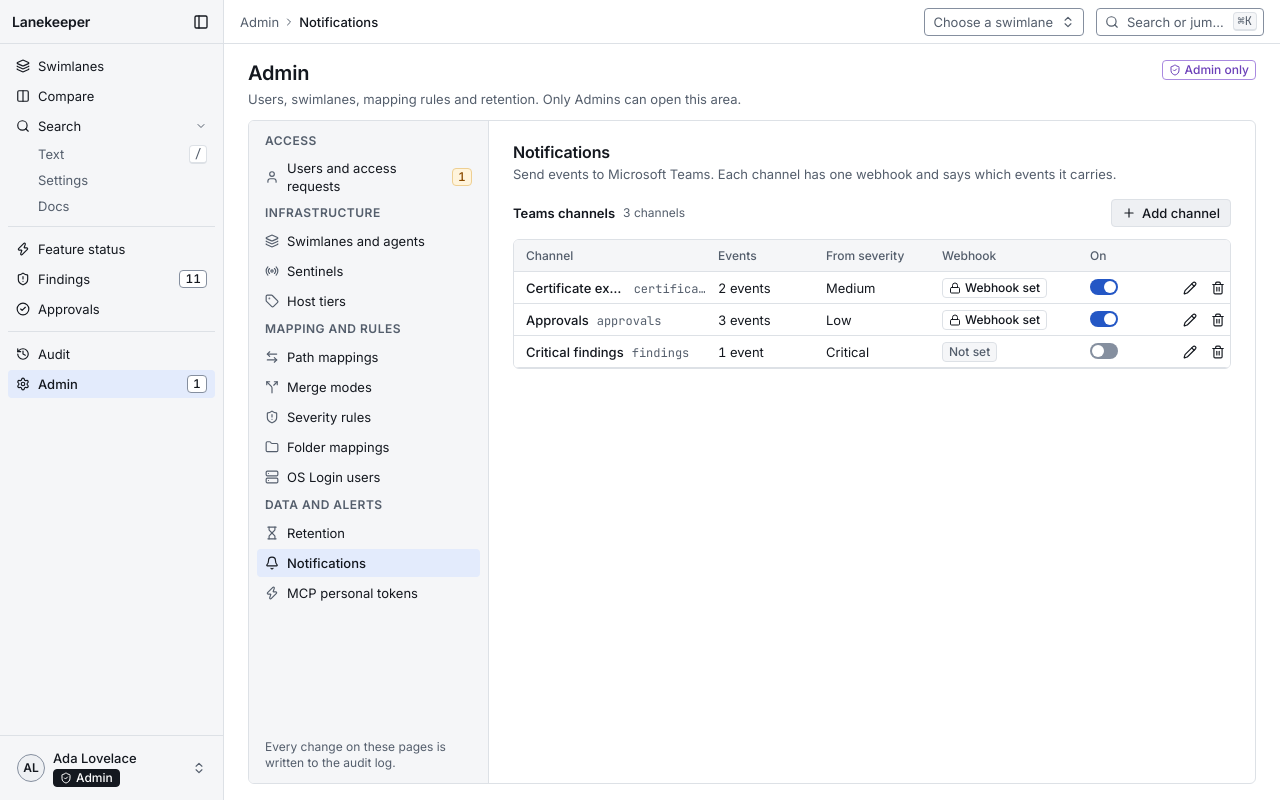
Test: saving a webhook › sends it once, shows it nowhere afterwards, and keeps it out of every cache and log
Check: the heading "Admin" is shown, box [248,61,309,85]
Click the button "Add channel": [1171, 213] box [1111,199,1231,227]
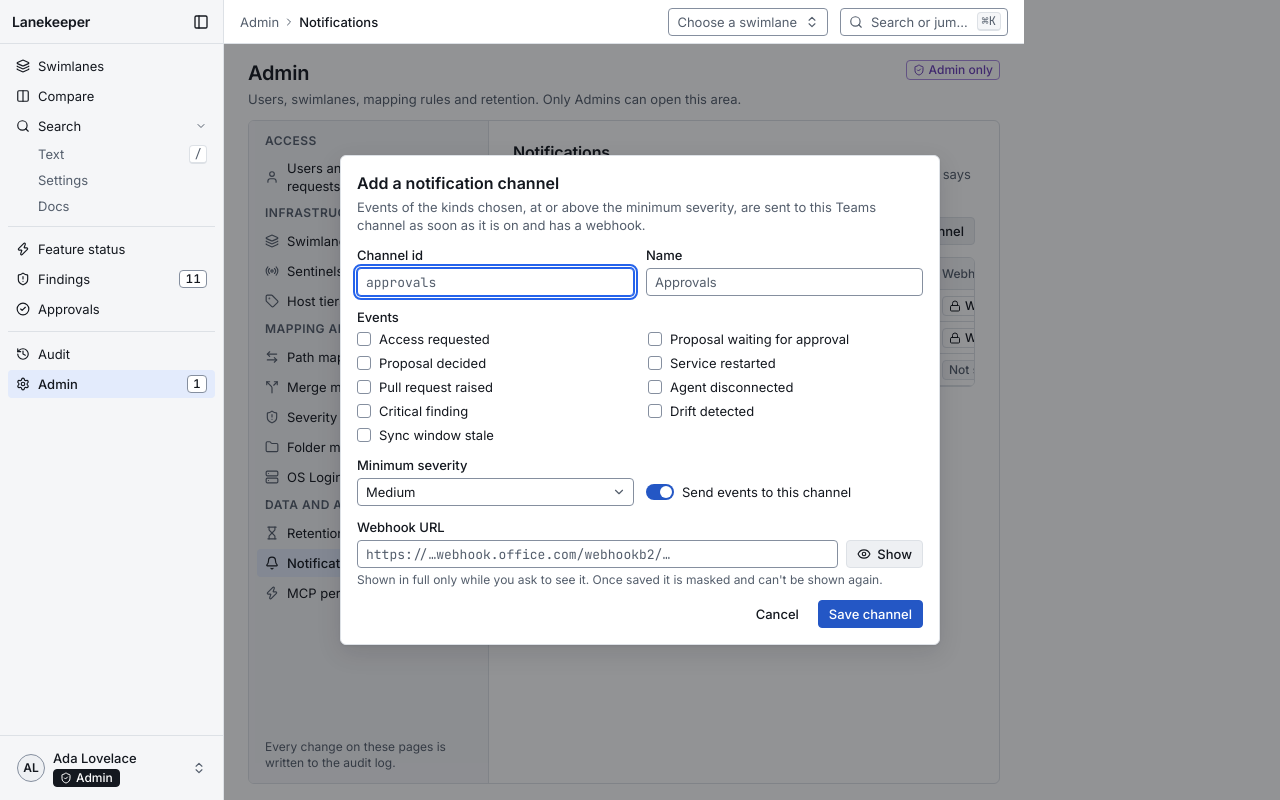
In the field labelled "Channel id": [496, 282] box [357,268,634,296], type "ops"
In the field labelled "Name": [784, 282] box [646,268,923,296], type "Operations"
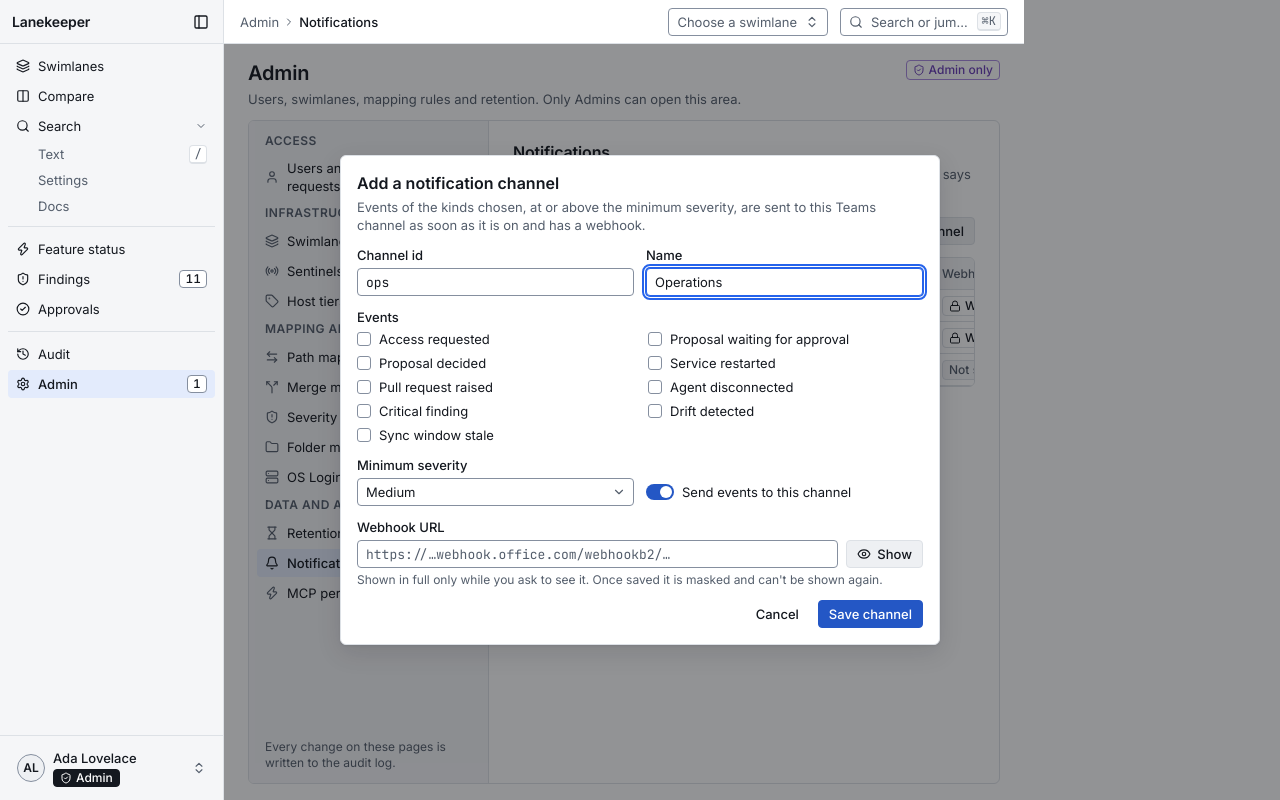
Click the 7th checkbox named "Critical finding": [364, 411] box [357,404,371,418]
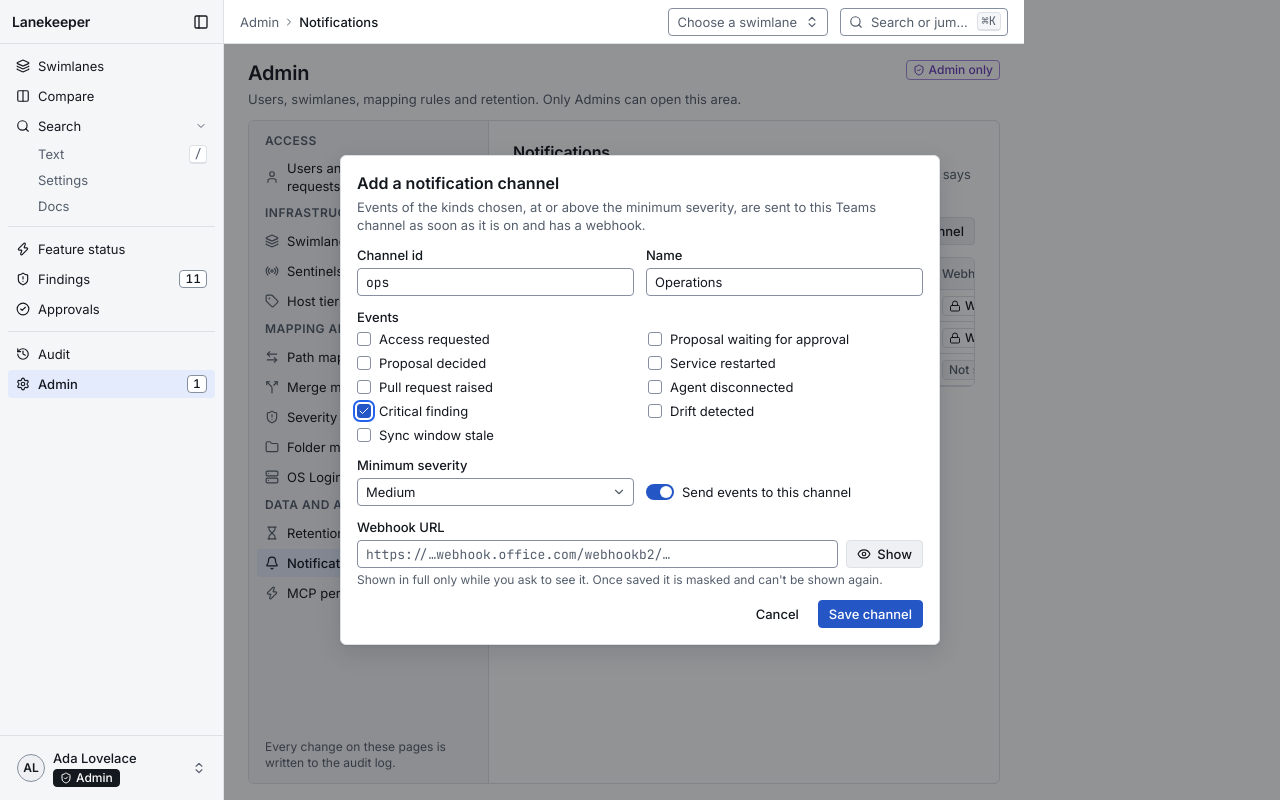
Select "High" in the dropdown labelled "Minimum severity": [496, 492] box [357,478,634,506]
Click the password field labelled "Webhook URL": [598, 554] box [357,540,838,568]
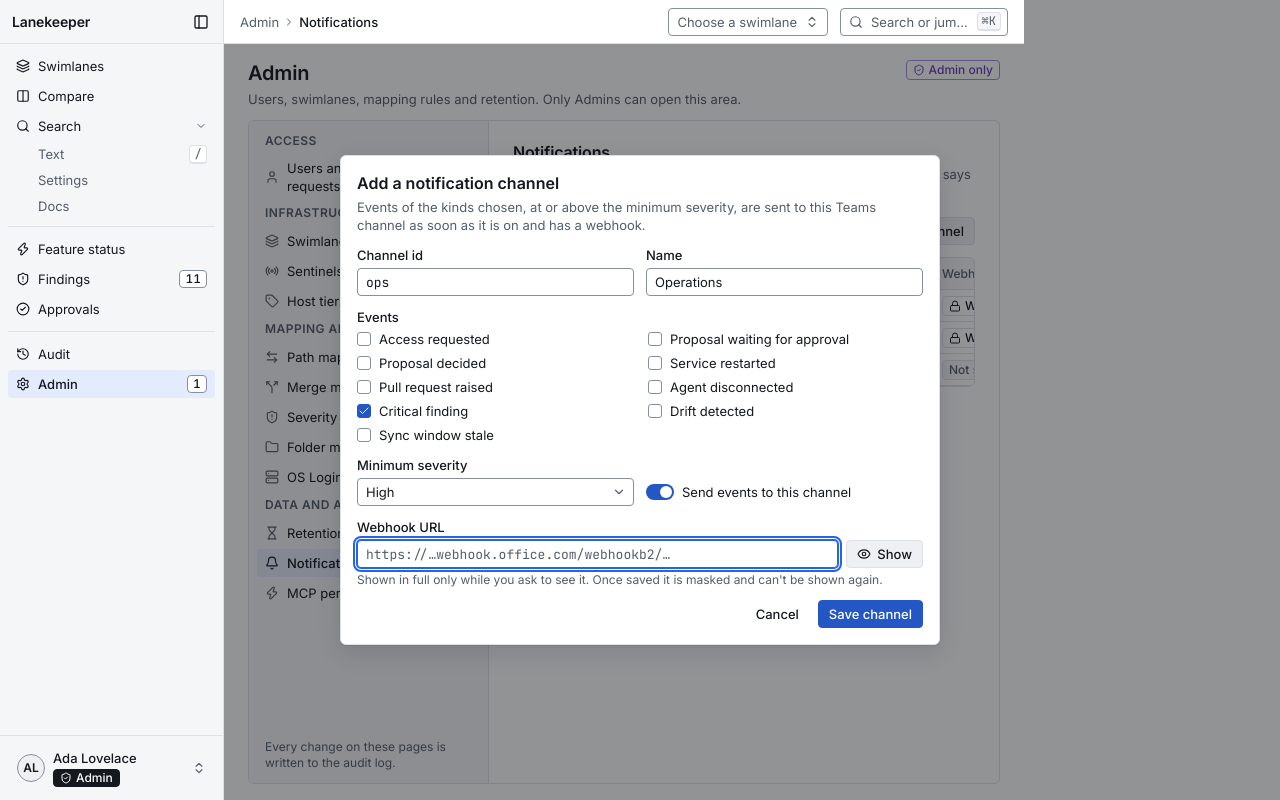
Type keys "https://corp.webhook.office.com/webhookb2/TOPSECRETPATH@tenant/IncomingWebhook/aaaa/bbbb"
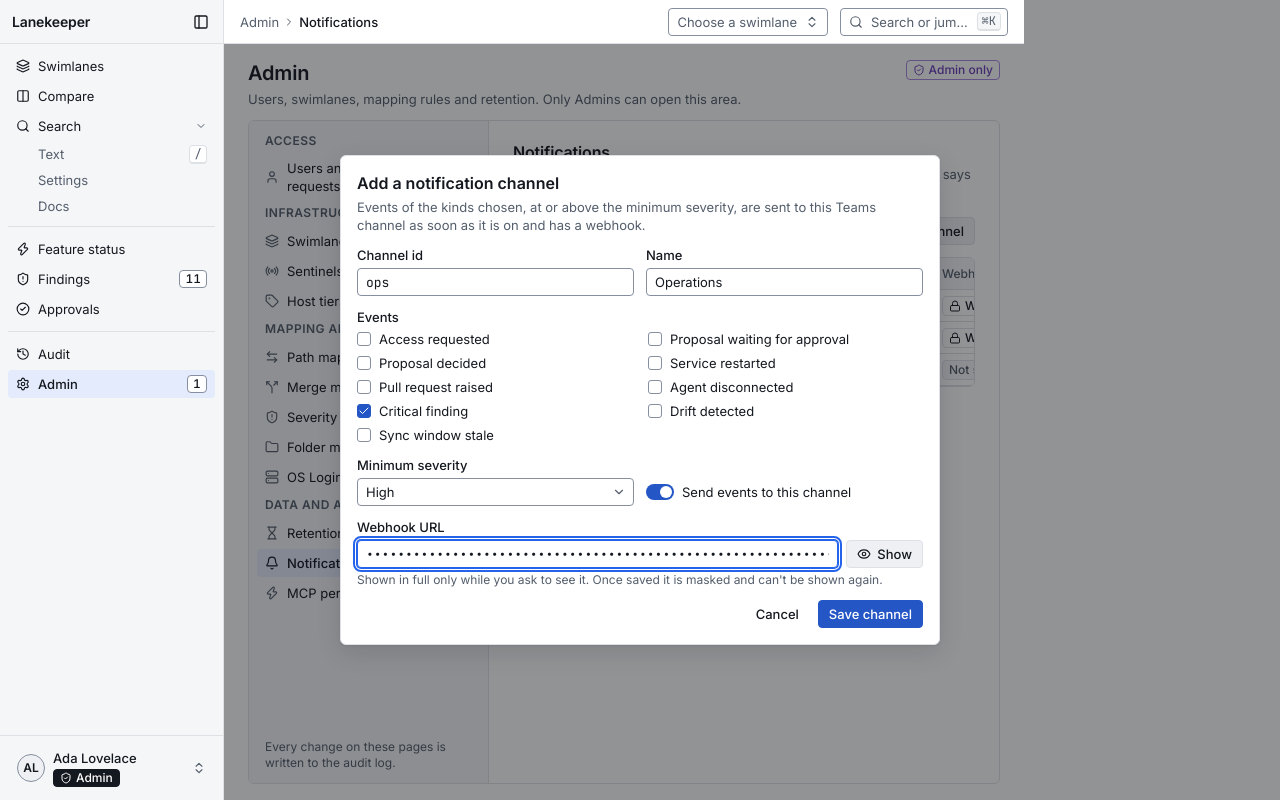
Click the button "Save channel": [870, 614] box [818,600,923,628]
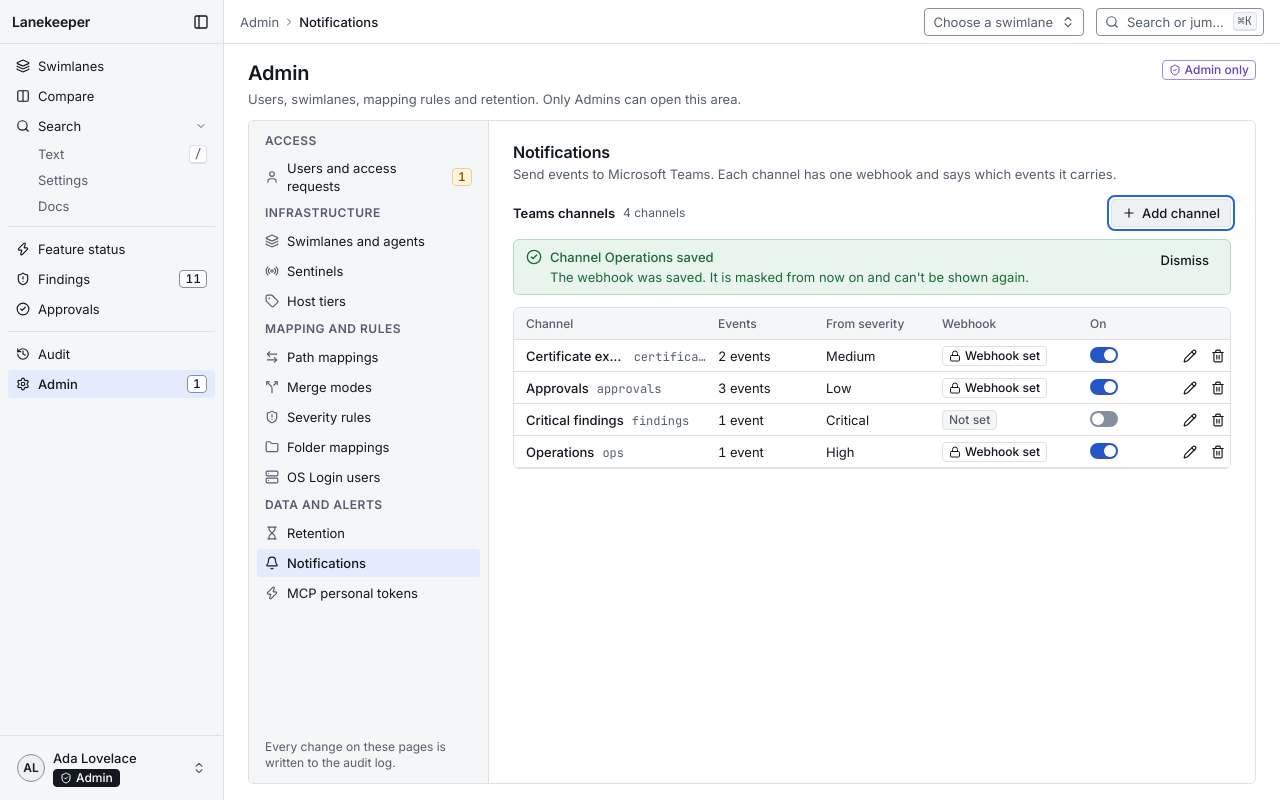
Check: the dialog is gone
Check: the text "Channel Operations saved" is shown, box [550,249,714,265]
Check: the text "masked from now on and can't be shown again" is shown, box [550,269,1029,285]
